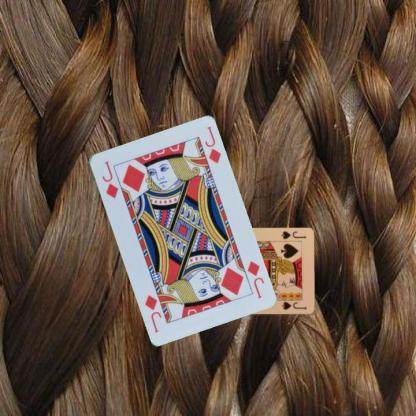Jd: (99, 158, 120, 199), (244, 258, 264, 299)
Js: (278, 229, 307, 240)
